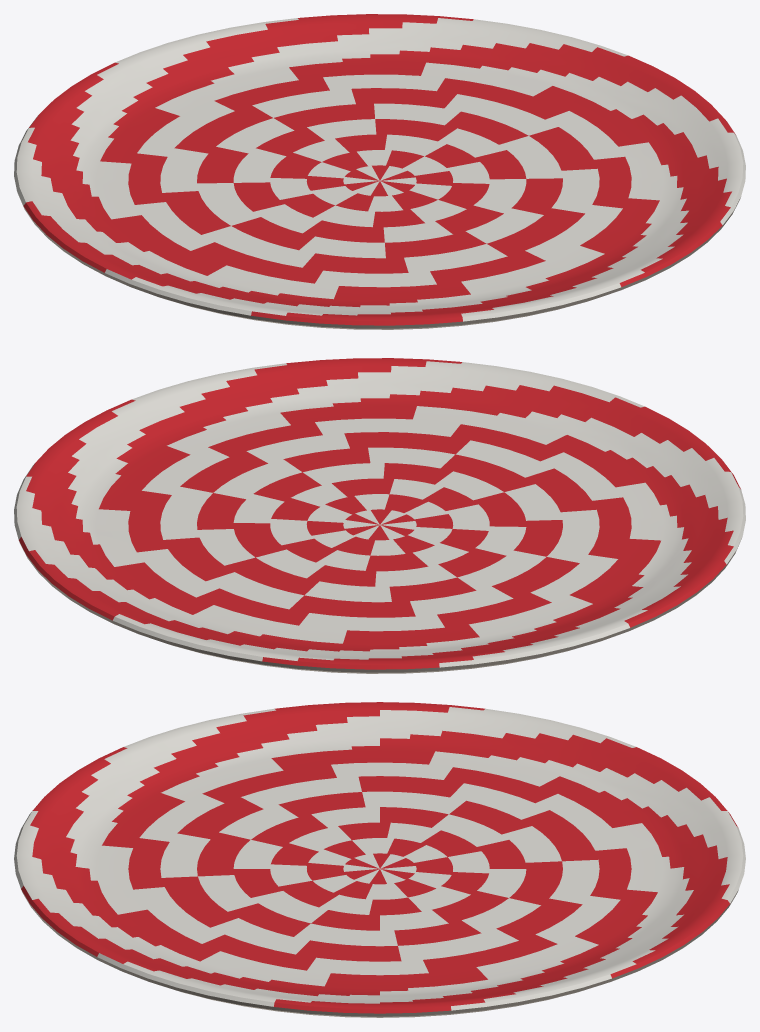
The model's file is plate_candy.glb.
3 renders of one model, top to bottom at view 1: azimuth 30°, elevation 25°; view 2: azimuth 150°, elevation 25°; view 3: azimuth 270°, elevation 25°, orthographic.
Visible parts, largest first — view 1: body; view 2: body; view 3: body.
Boxes of the visible parts, x1,y1,x2,y2 form: body: (14,14,745,329); body: (14,358,745,673); body: (14,702,745,1017).
Size of the model in its own units: 1.6 by 0.0939 by 1.6.
